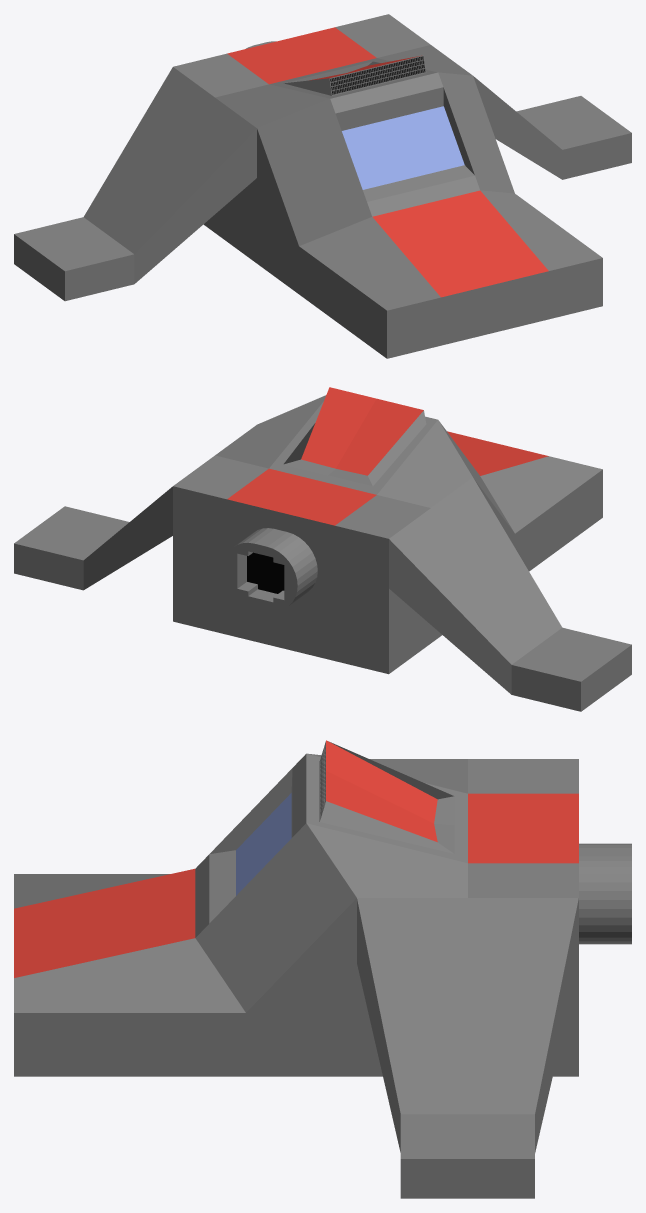
File: ship.fbx
3 renders of one model, top to bottom at view 1: azimuth 30°, elevation 25°; view 2: azimuth 150°, elevation 25°; view 3: azimuth 270°, elevation 25°, orthographic. The views are drawn at different scales.
Parts seen in each view (by area): view 1: Hull; view 2: Hull; view 3: Hull.
Boxes of the visible parts, x1,y1,x2,y2 form: Hull: [14, 14, 631, 358]; Hull: [14, 387, 631, 711]; Hull: [14, 740, 631, 1198].
Bounding box in the file's own units: 246 × 79.86 × 176.
